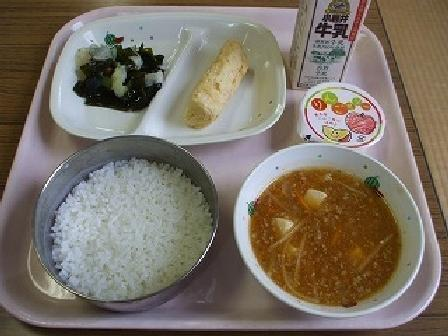Milk: (286, 0, 375, 77)
Rice: (42, 141, 220, 309)
Salad: (65, 24, 169, 115)
Spicy chili-flavored tofu: (243, 152, 419, 305)
snacks: (174, 20, 275, 135)
